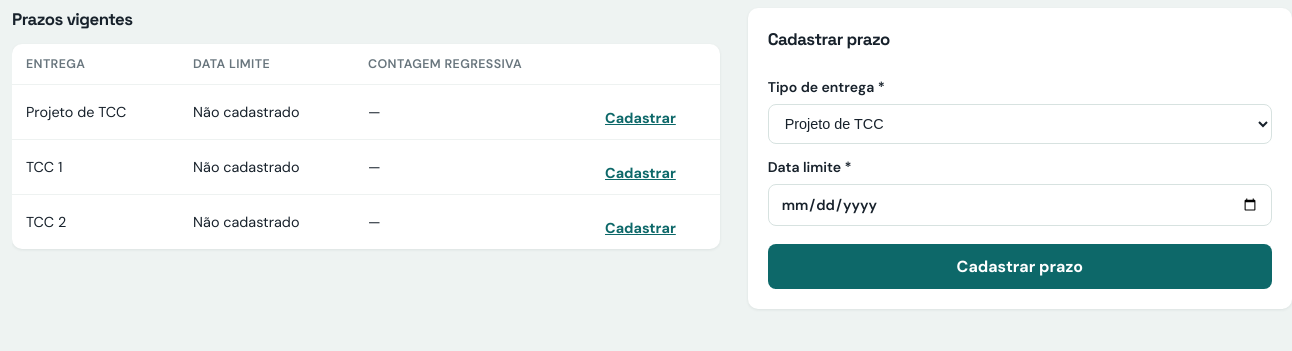
Test case: GestaoCalendario › deve exigir a data limite antes de enviar o formulário
Click the button "Cadastrar prazo": (1020, 266) [768,244,1272,289]
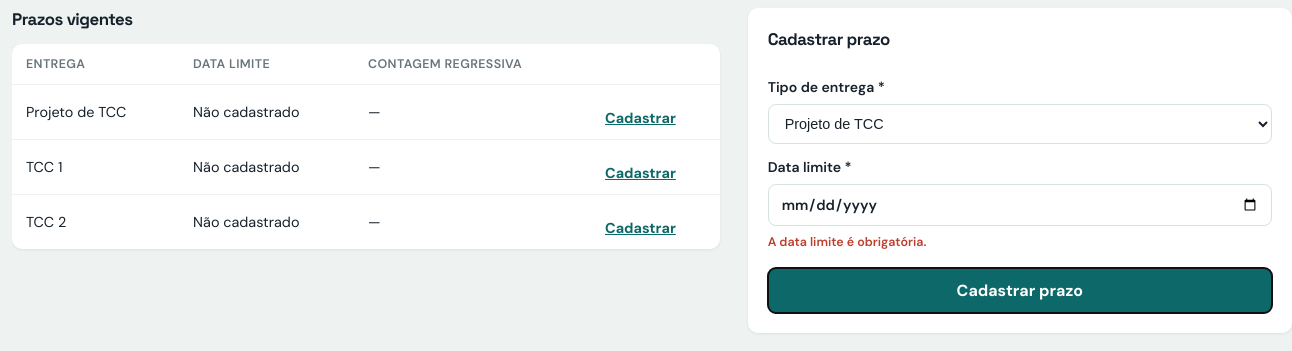
Check: the text "A data limite é obrigatória." is shown, box [768,234,926,250]
